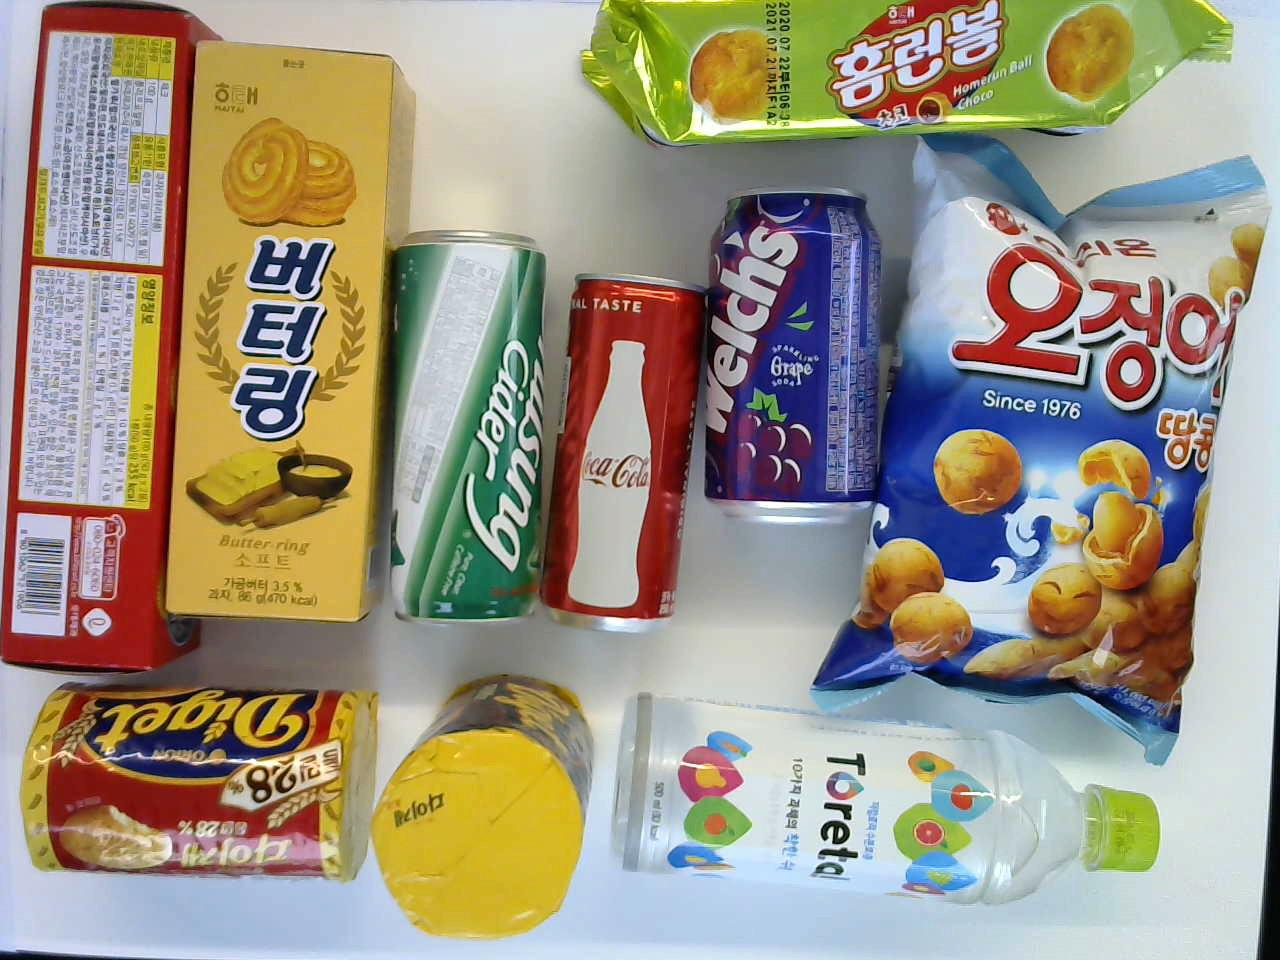buttering: (162, 43, 422, 634)
cidar: (391, 227, 548, 619)
coke: (531, 275, 711, 632)
diget_choco: (365, 672, 599, 945)
diget_ori: (25, 688, 361, 872)
homerunball: (573, 0, 1240, 149)
squid_peanut: (796, 151, 1277, 763)
toreta: (607, 697, 1170, 910)
welchs: (703, 188, 882, 521)
zec: (0, 4, 253, 679)
